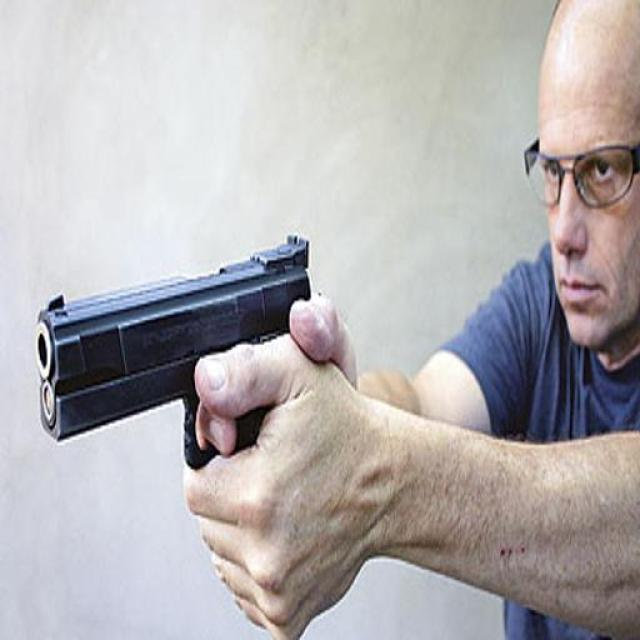pistol: (31, 225, 315, 482)
